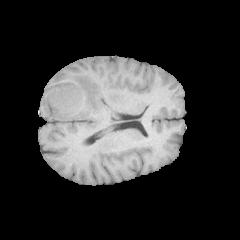glioma: (42, 74, 105, 120)
